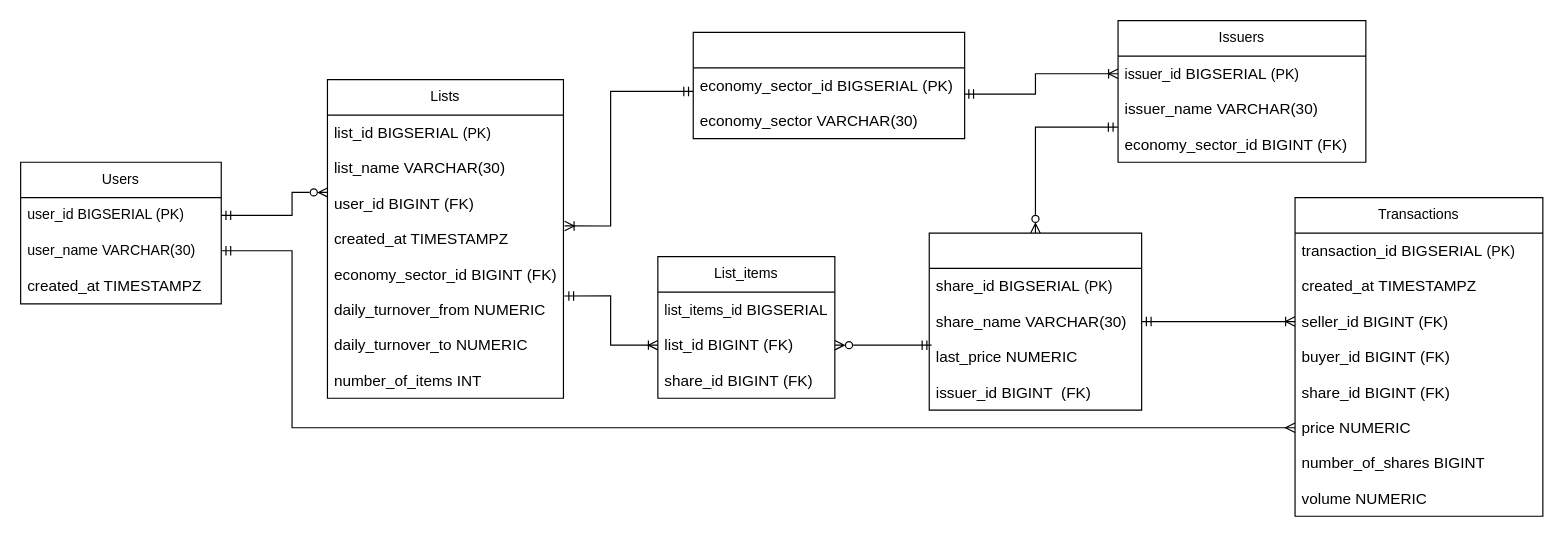
Image size: 1563x537. Some labels were removed from this diagram. Here are the shapes that lost their labels. From the top down, the box of each, then its label:
(692, 31, 965, 139): Economy_sectors
(928, 232, 1142, 410): Shares
